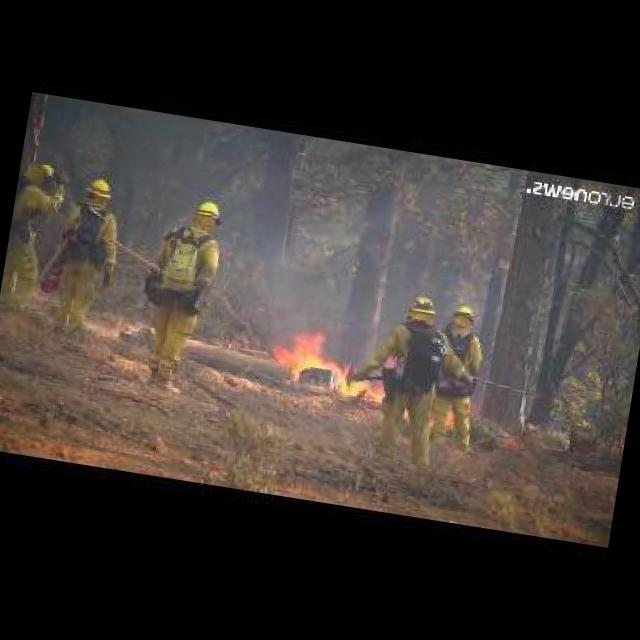Fire: (260, 324, 386, 406), (446, 409, 454, 426)
